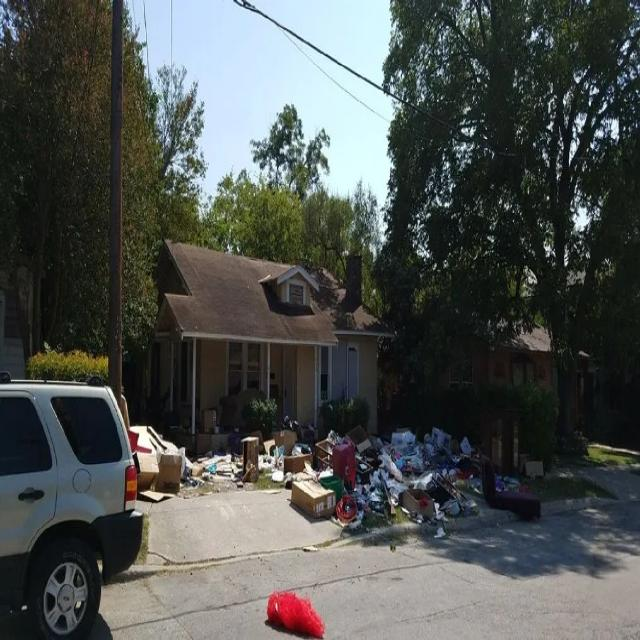House: (144, 237, 396, 437), (469, 313, 591, 437)
